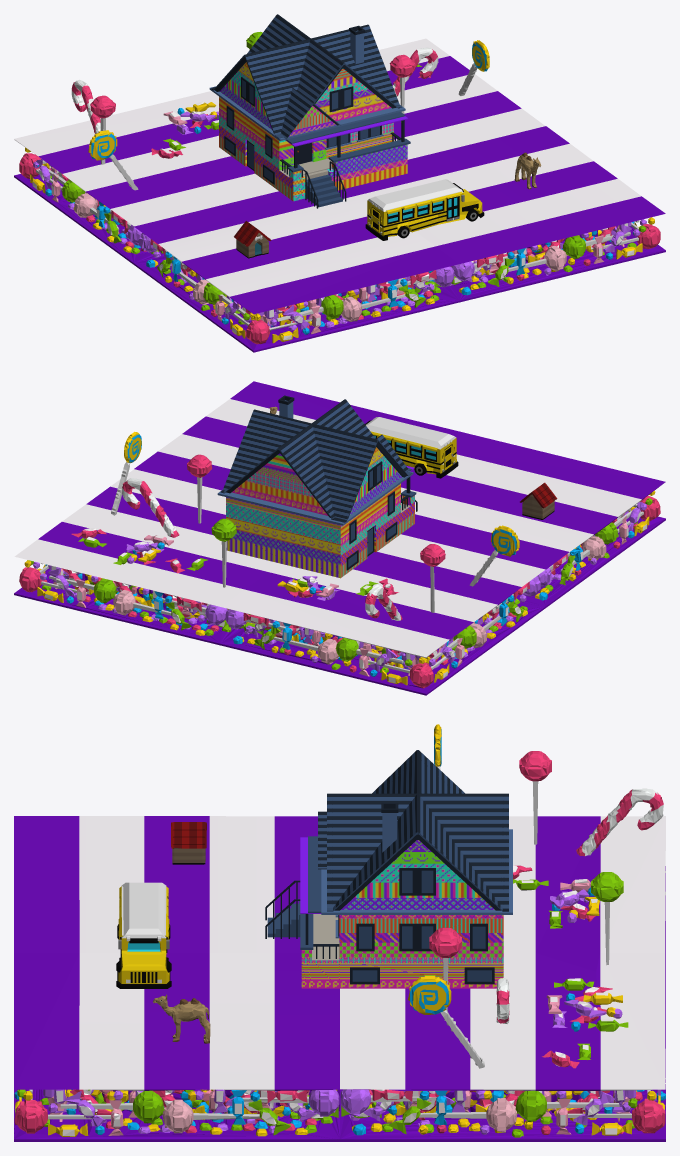
3 renders of one model, top to bottom at view 1: azimuth 30°, elevation 25°; view 2: azimuth 150°, elevation 25°; view 3: azimuth 270°, elevation 25°, orthographic. The views are drawn at different scales.
Visible parts, largest first — view 1: TERRAIN_CANDY, Cube.676, VEHICLES_SCHOOL_BUS, OBJRANDOM_DOGHOUSE, ANIMAL_CAMELLO; view 2: TERRAIN_CANDY, Cube.676, VEHICLES_SCHOOL_BUS, OBJRANDOM_DOGHOUSE; view 3: TERRAIN_CANDY, Cube.676, VEHICLES_SCHOOL_BUS, OBJRANDOM_DOGHOUSE, ANIMAL_CAMELLO.
Part boxes in pixels (left/top/right/bottom): TERRAIN_CANDY: left=14, top=31, right=665, bottom=352; Cube.676: left=209, top=14, right=410, bottom=208; VEHICLES_SCHOOL_BUS: left=365, top=179, right=484, bottom=240; OBJRANDOM_DOGHOUSE: left=234, top=221, right=271, bottom=258; ANIMAL_CAMELLO: left=514, top=152, right=541, bottom=189; TERRAIN_CANDY: left=14, top=381, right=665, bottom=695; Cube.676: left=217, top=395, right=417, bottom=578; VEHICLES_SCHOOL_BUS: left=365, top=417, right=458, bottom=478; OBJRANDOM_DOGHOUSE: left=520, top=482, right=557, bottom=519; TERRAIN_CANDY: left=14, top=724, right=665, bottom=1141; Cube.676: left=265, top=750, right=512, bottom=988; VEHICLES_SCHOOL_BUS: left=116, top=882, right=171, bottom=988; OBJRANDOM_DOGHOUSE: left=171, top=822, right=206, bottom=864; ANIMAL_CAMELLO: left=153, top=994, right=210, bottom=1043.
Bounding box in the file's own units: 4059 × 1600 × 4000.
Materials: 37 (6 with a texture image).
